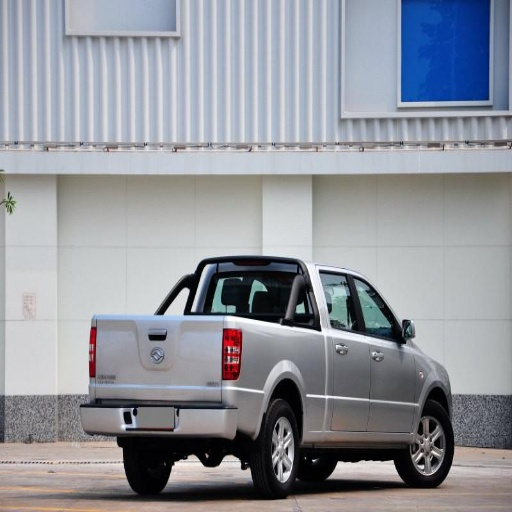_background_: (97, 401, 226, 434)
back_bumper: (159, 269, 305, 322)
back_left_light: (285, 269, 369, 431)
back_right_door: (223, 327, 241, 382)
front_left_light: (353, 275, 416, 431)
tailgate: (95, 316, 291, 435)
trunk: (397, 402, 451, 486), (254, 400, 300, 497), (124, 445, 171, 498)
